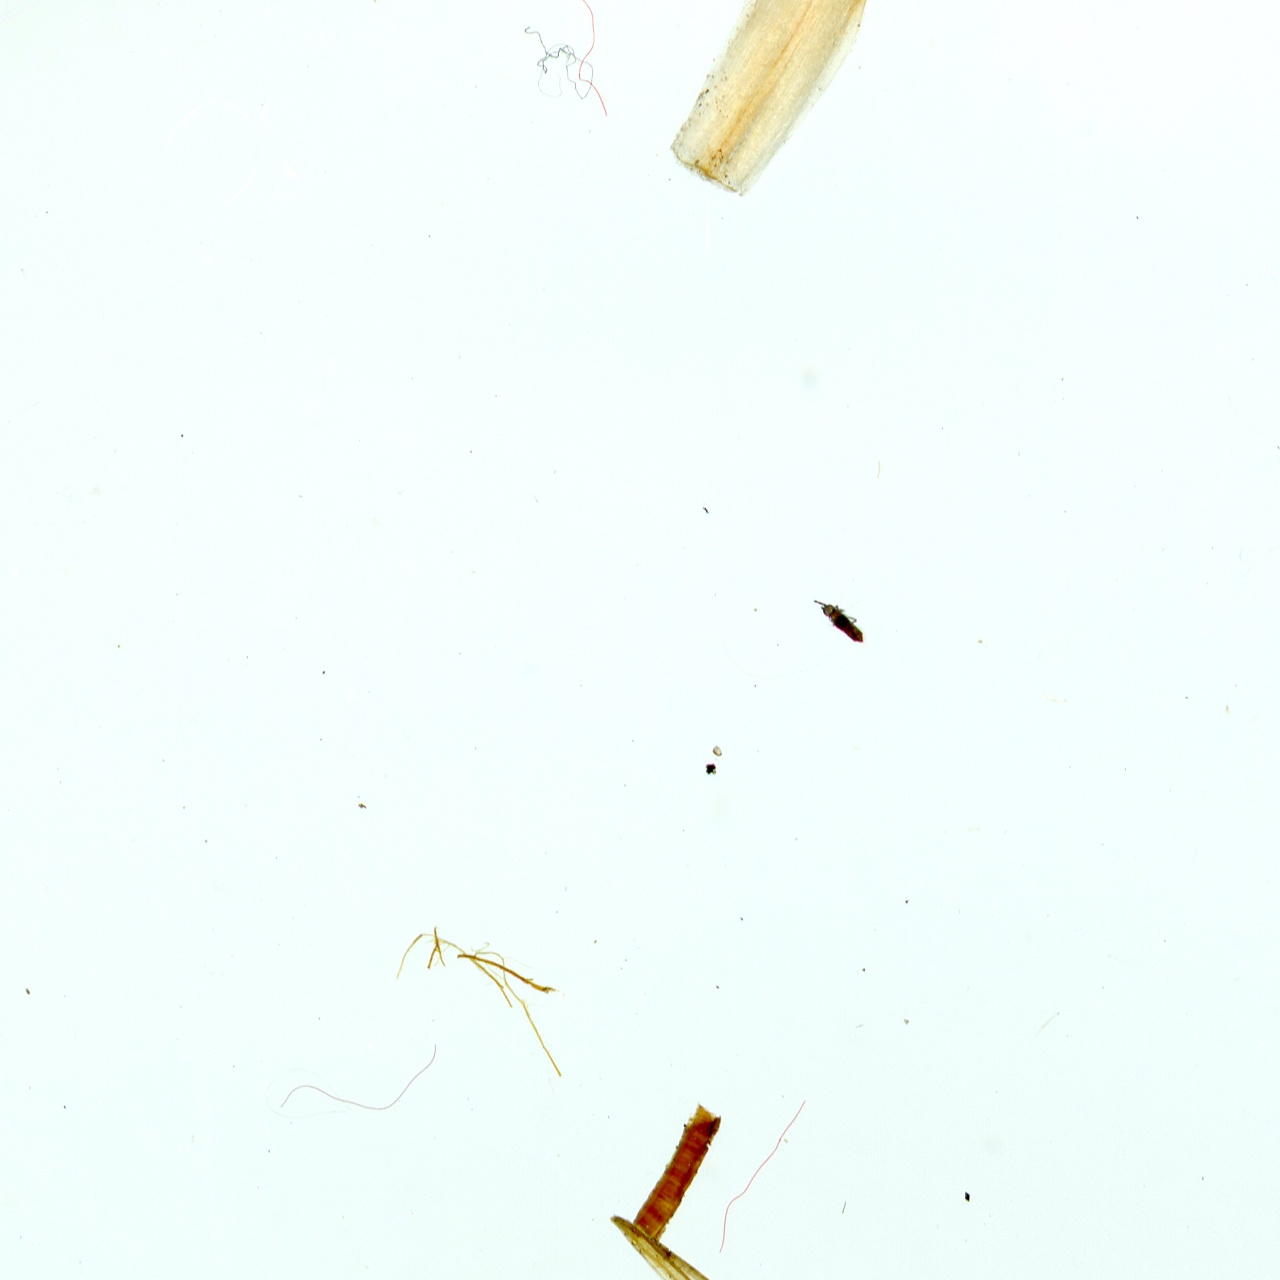arthropod: (797, 581, 888, 660)
